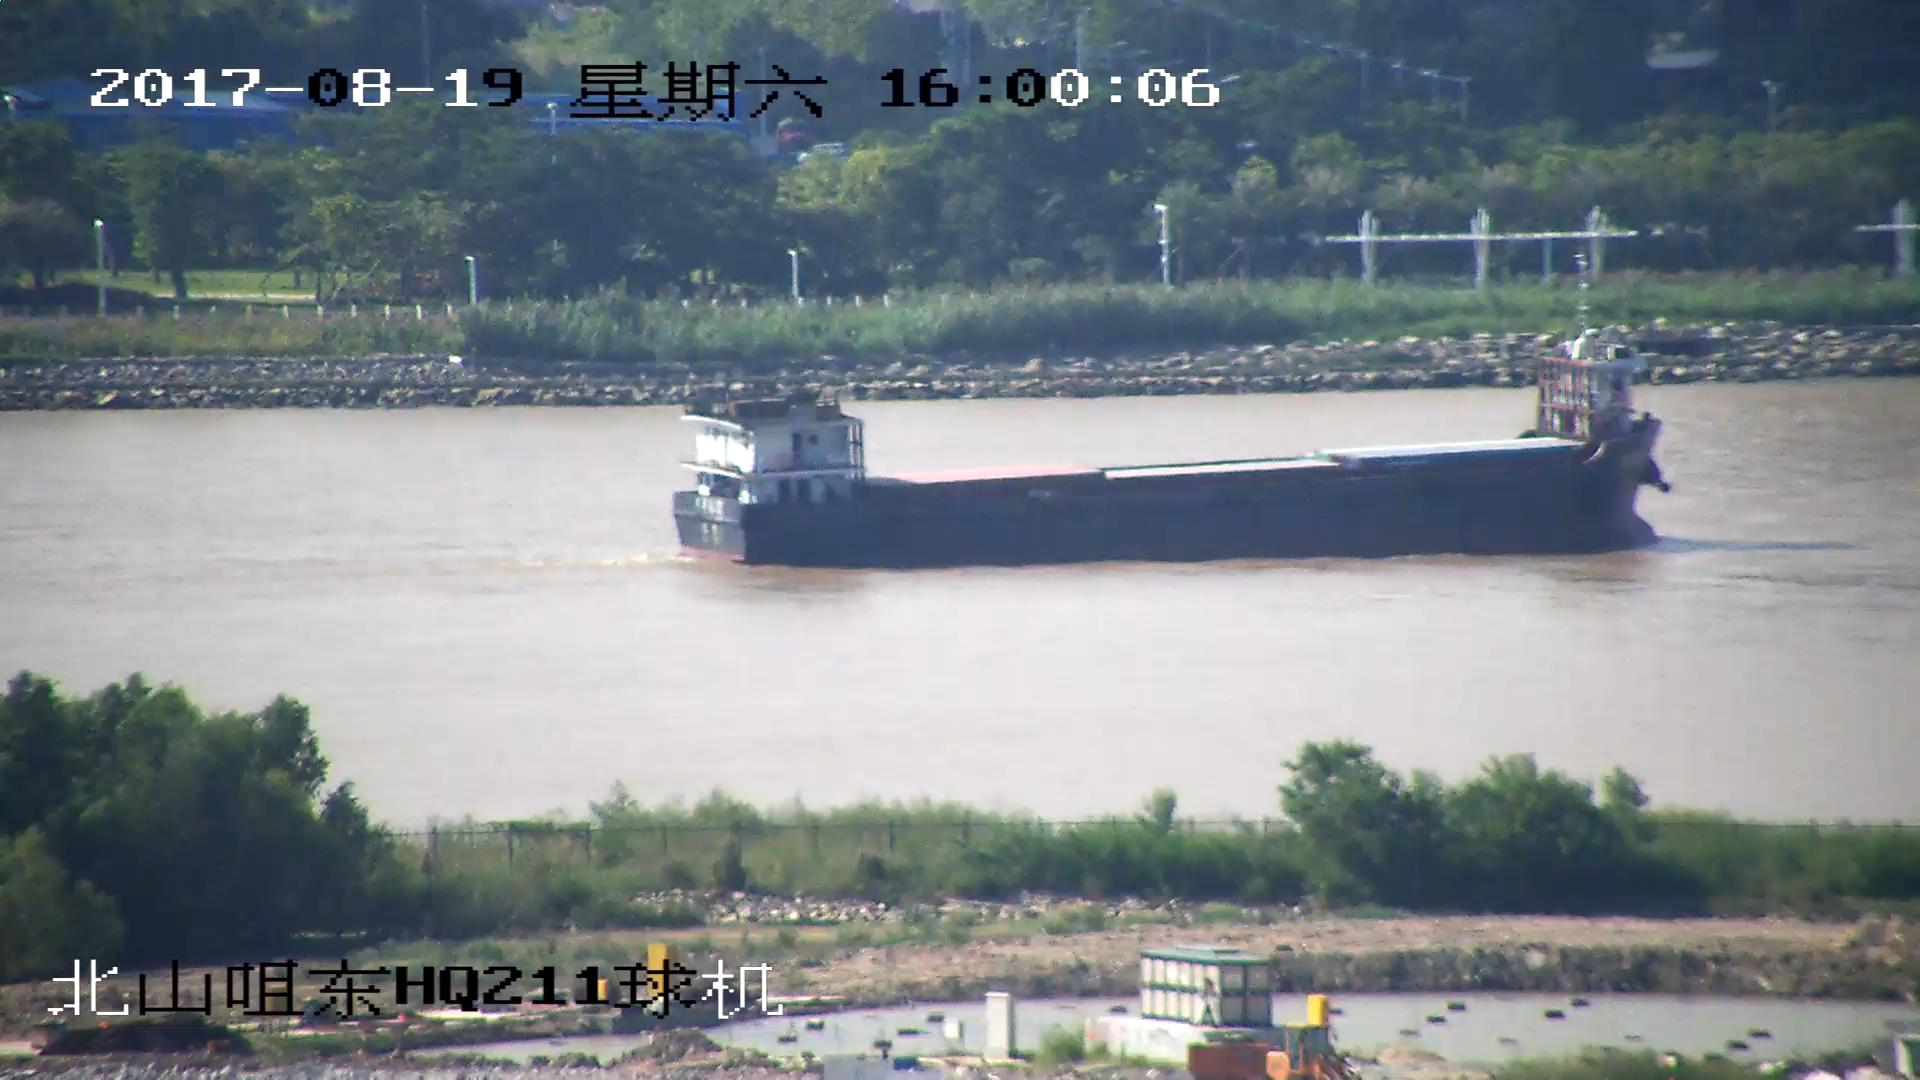general cargo ship: (671, 316, 1674, 566)
